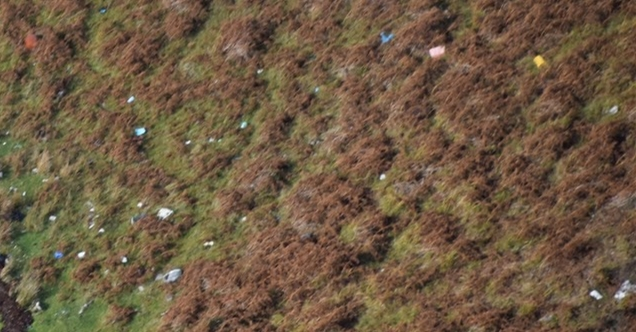scattered_barrel: (25, 84, 263, 292), (368, 16, 566, 84)
